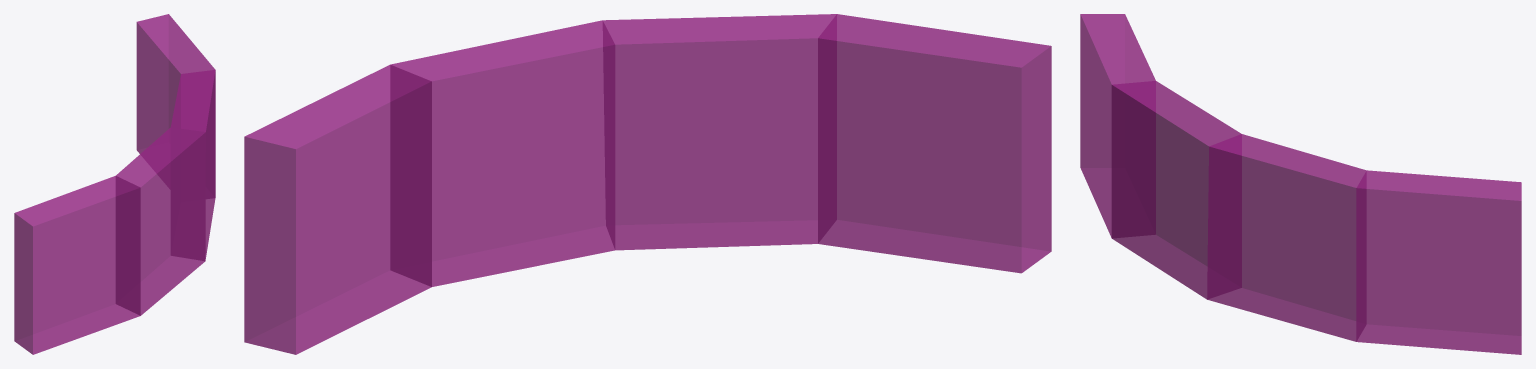
File: SM_Bld_Wall_Railing_01_Round_01_Collision.fbx
The picture shows the model from 3 angles, left to right: view 1: azimuth 30°, elevation 25°; view 2: azimuth 150°, elevation 25°; view 3: azimuth 270°, elevation 25°; orthographic projection. The views are drawn at different scales.
Visible parts, largest first — view 1: SM_Bld_Wall_Railing_01_Round_01_Collision; view 2: SM_Bld_Wall_Railing_01_Round_01_Collision; view 3: SM_Bld_Wall_Railing_01_Round_01_Collision.
Boxes of the visible parts, bbox=[...] form: SM_Bld_Wall_Railing_01_Round_01_Collision: bbox=[14, 14, 215, 354]; SM_Bld_Wall_Railing_01_Round_01_Collision: bbox=[244, 14, 1051, 354]; SM_Bld_Wall_Railing_01_Round_01_Collision: bbox=[1080, 14, 1521, 354].
Size of the model in its own units: 265 by 102 by 264.
